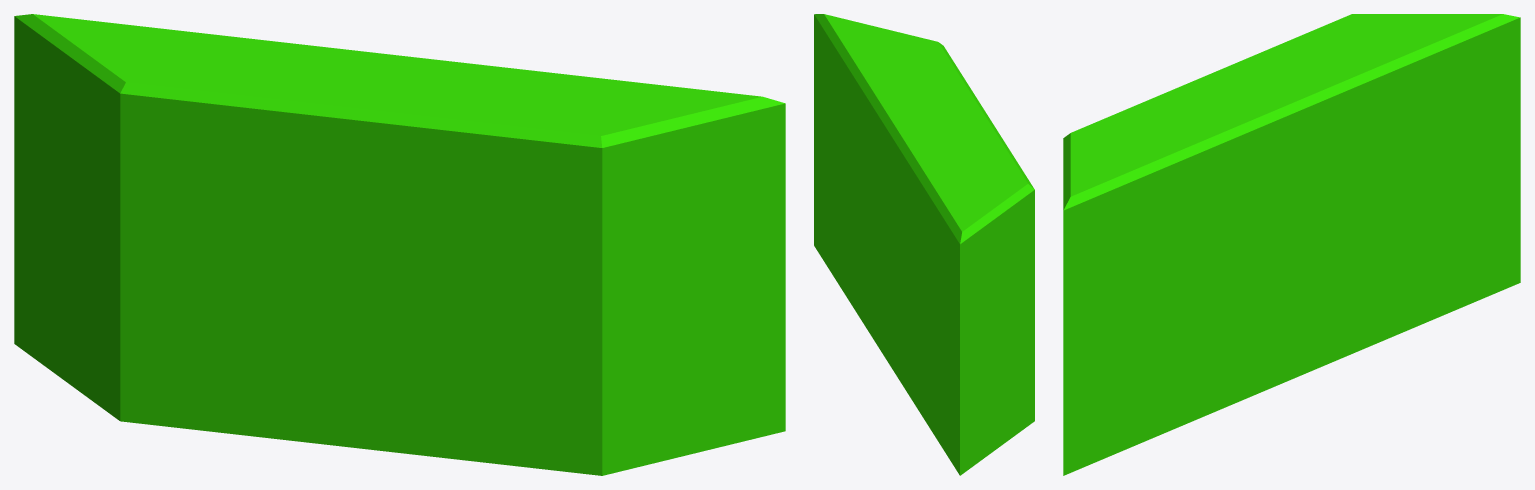
The model's file is diagonal_3x2.fbx.
3 renders of one model, left to right at view 1: azimuth 30°, elevation 25°; view 2: azimuth 150°, elevation 25°; view 3: azimuth 270°, elevation 25°, orthographic. The views are drawn at different scales.
Parts seen in each view (by area): view 1: diagonal_3x2; view 2: diagonal_3x2; view 3: diagonal_3x2.
Part boxes in pixels (<box>): diagonal_3x2: <box>14,14,785,475</box>; diagonal_3x2: <box>814,14,1034,475</box>; diagonal_3x2: <box>1063,14,1520,475</box>.
Size of the model in its own units: 320 by 210 by 320.
